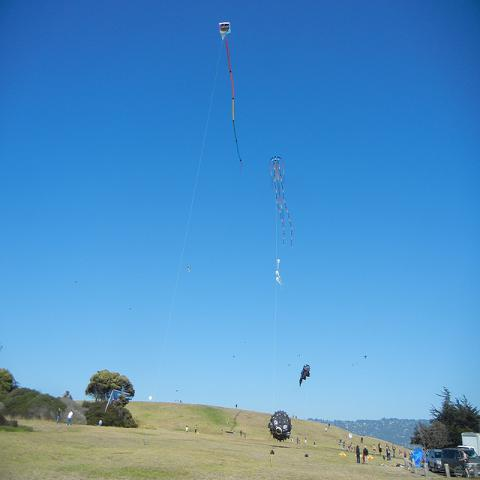car: (441, 446, 480, 474), (427, 448, 442, 472)
